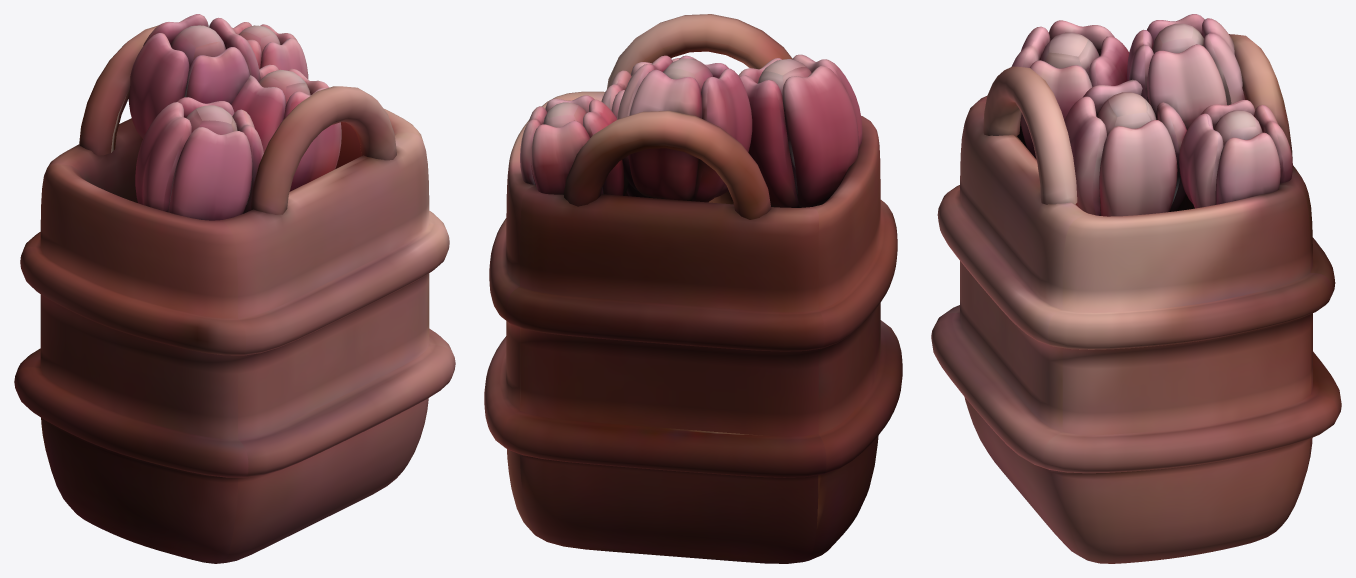
The model's file is flower-basket.glb.
3 renders of one model, left to right at view 1: azimuth 30°, elevation 25°; view 2: azimuth 150°, elevation 25°; view 3: azimuth 270°, elevation 25°, orthographic. The views are drawn at different scales.
Visible parts, largest first — view 1: Flower_Basket_Raycaster_Hover_Fourth; view 2: Flower_Basket_Raycaster_Hover_Fourth; view 3: Flower_Basket_Raycaster_Hover_Fourth.
Boxes of the visible parts, bbox=[...] form: Flower_Basket_Raycaster_Hover_Fourth: bbox=[14, 14, 455, 563]; Flower_Basket_Raycaster_Hover_Fourth: bbox=[484, 14, 902, 563]; Flower_Basket_Raycaster_Hover_Fourth: bbox=[931, 14, 1341, 563].
Bounding box in the file's own units: 0.6634 × 0.8088 × 0.6377.
1 material, 1 textured.
